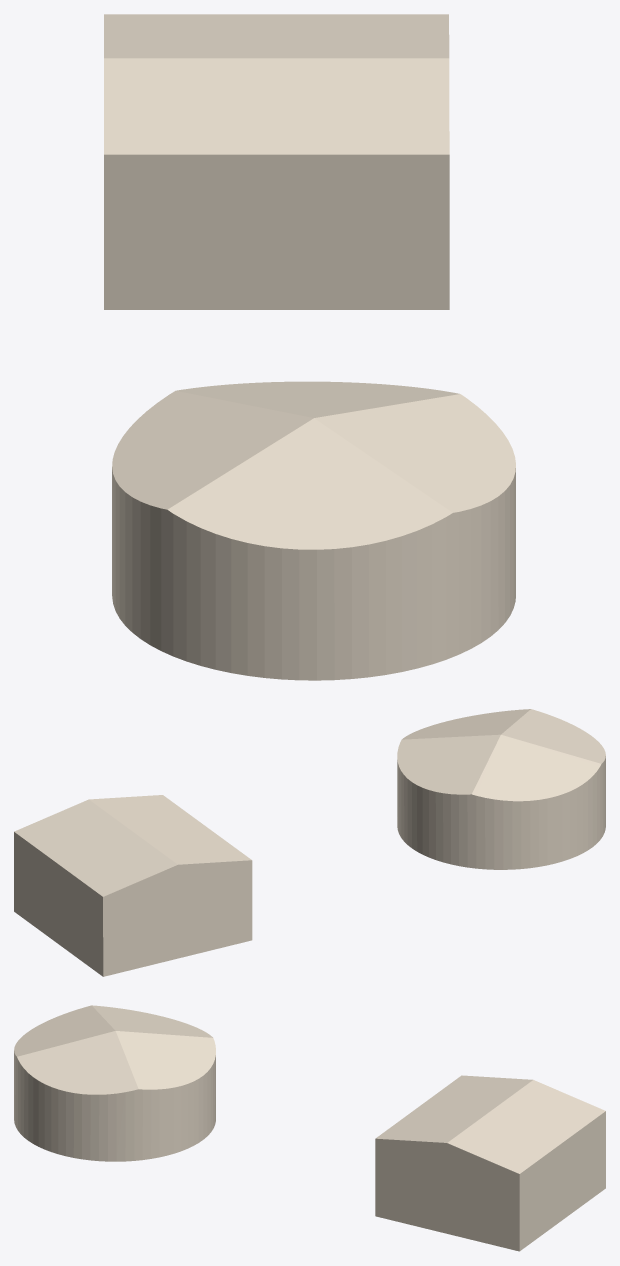
3 renders of one model, top to bottom at view 1: azimuth 30°, elevation 25°; view 2: azimuth 150°, elevation 25°; view 3: azimuth 270°, elevation 25°, orthographic. The views are drawn at different scales.
Bounding box in the file's own units: 31.29 × 7.62 × 44.9.
